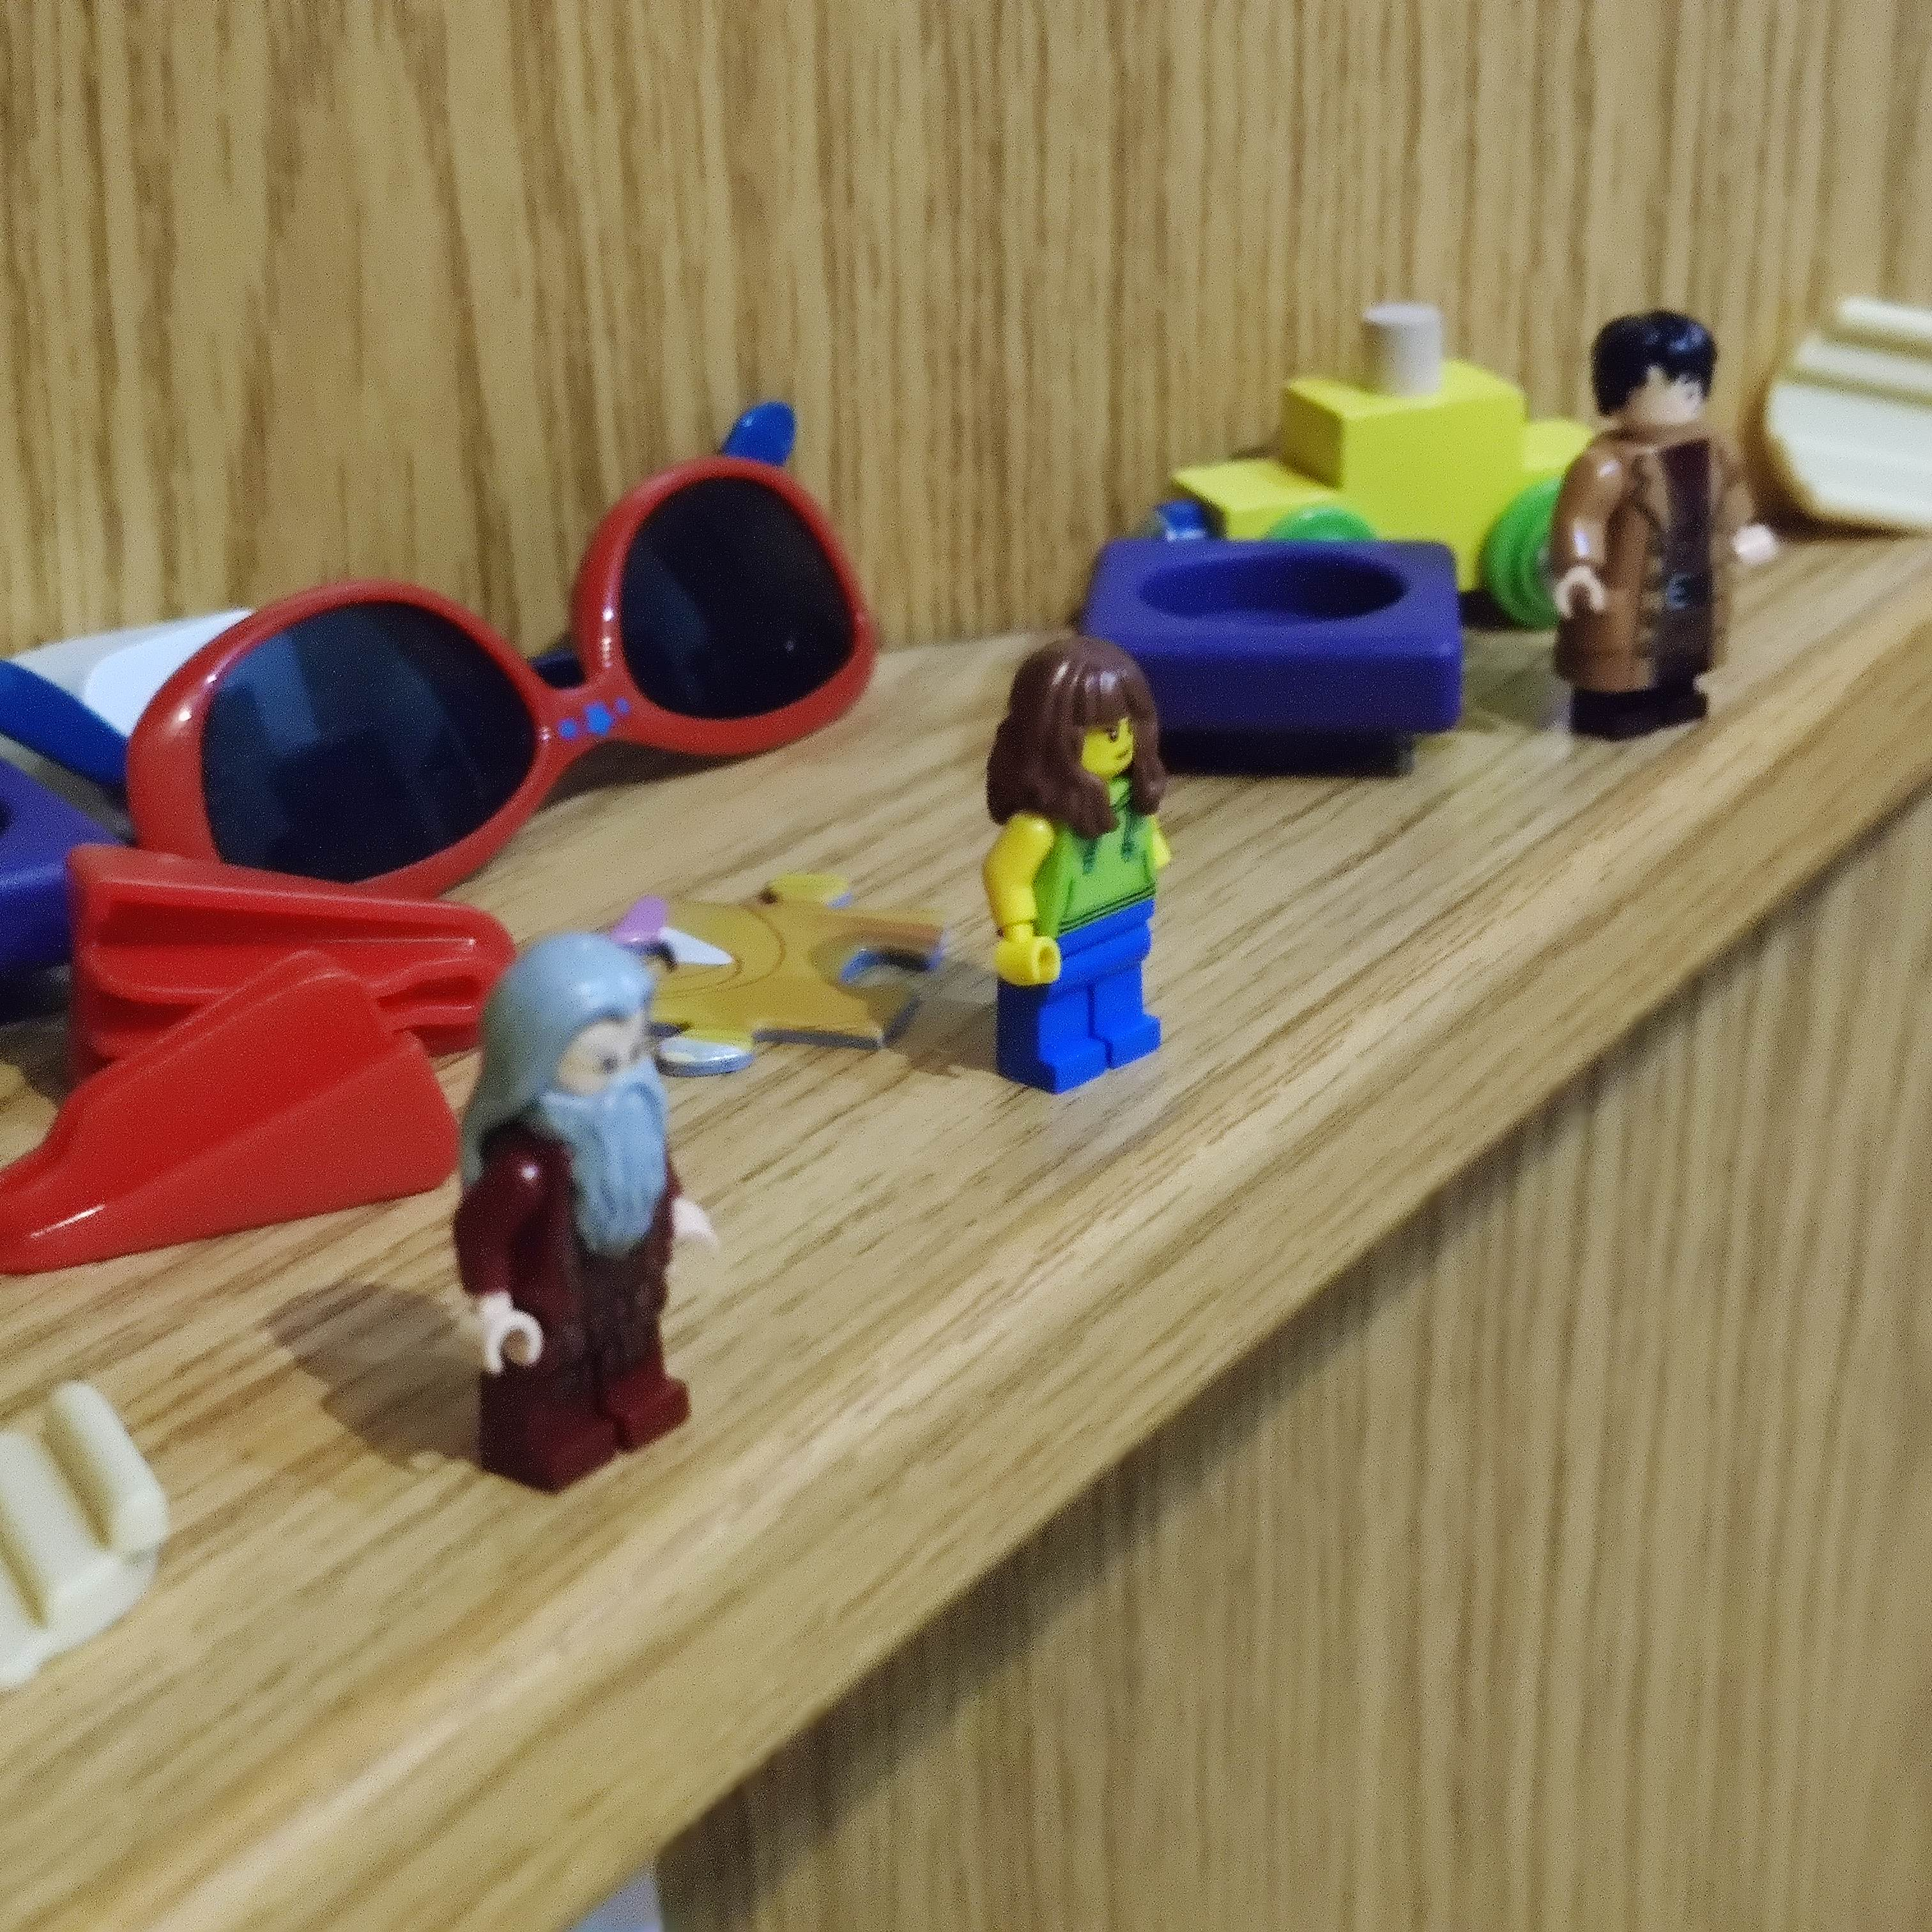lego: (432, 927, 704, 1500), (947, 630, 1196, 1097), (1553, 308, 1780, 748)
